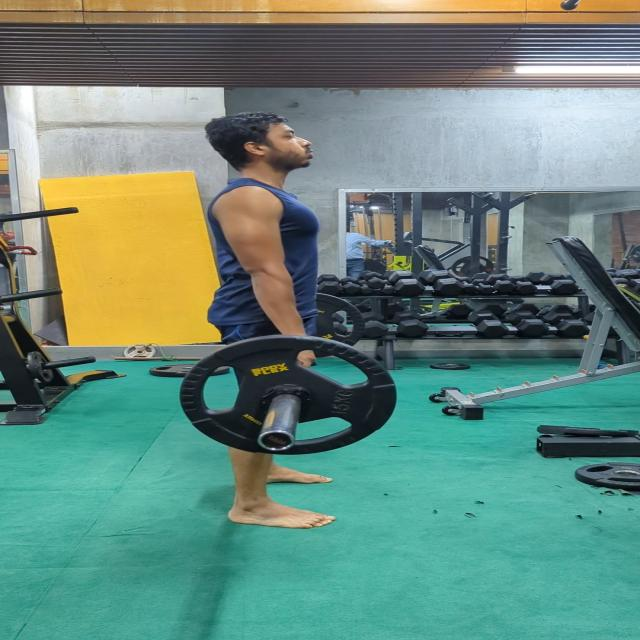Normal_Deadlifts: (201, 114, 342, 532)
